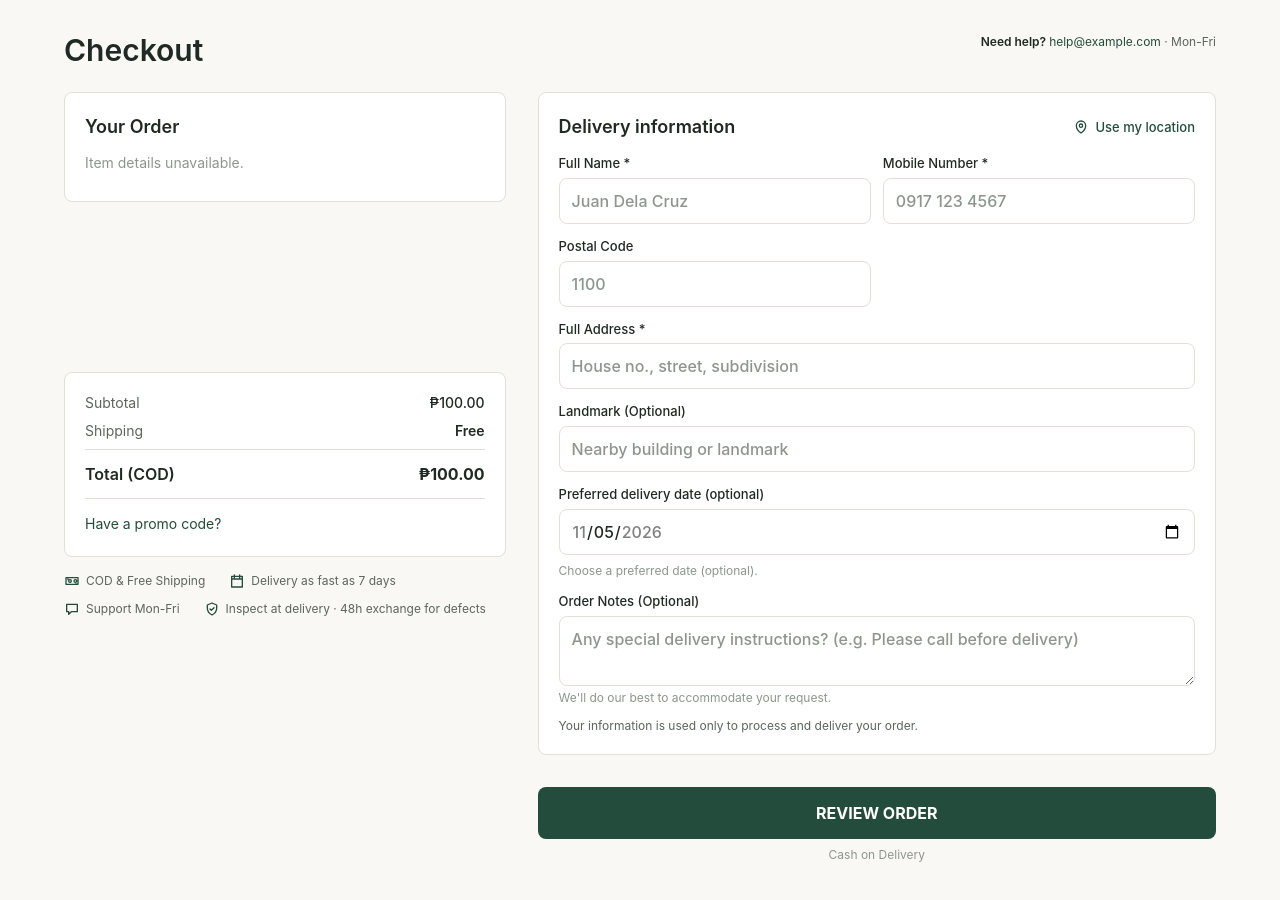
Test: CheckoutForm promo code › blocks review while a promo preview is still pending
The width and height of the screenshot is (1280, 900).
Click the button "Have a promo code?": (153, 524) [85,514,222,534]
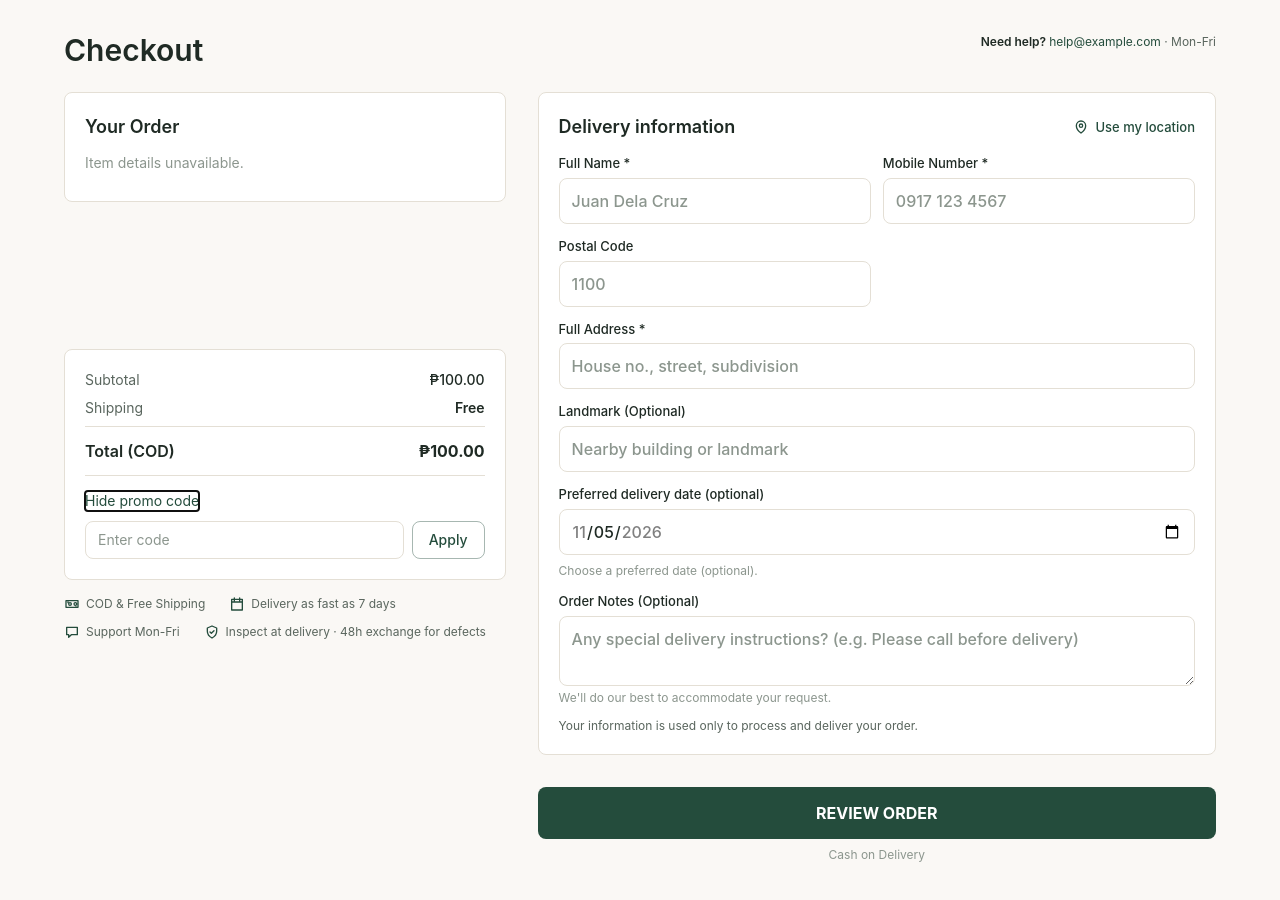
In the field named "Promo code": (244, 540) [85,521,404,559], type "SAVE10"
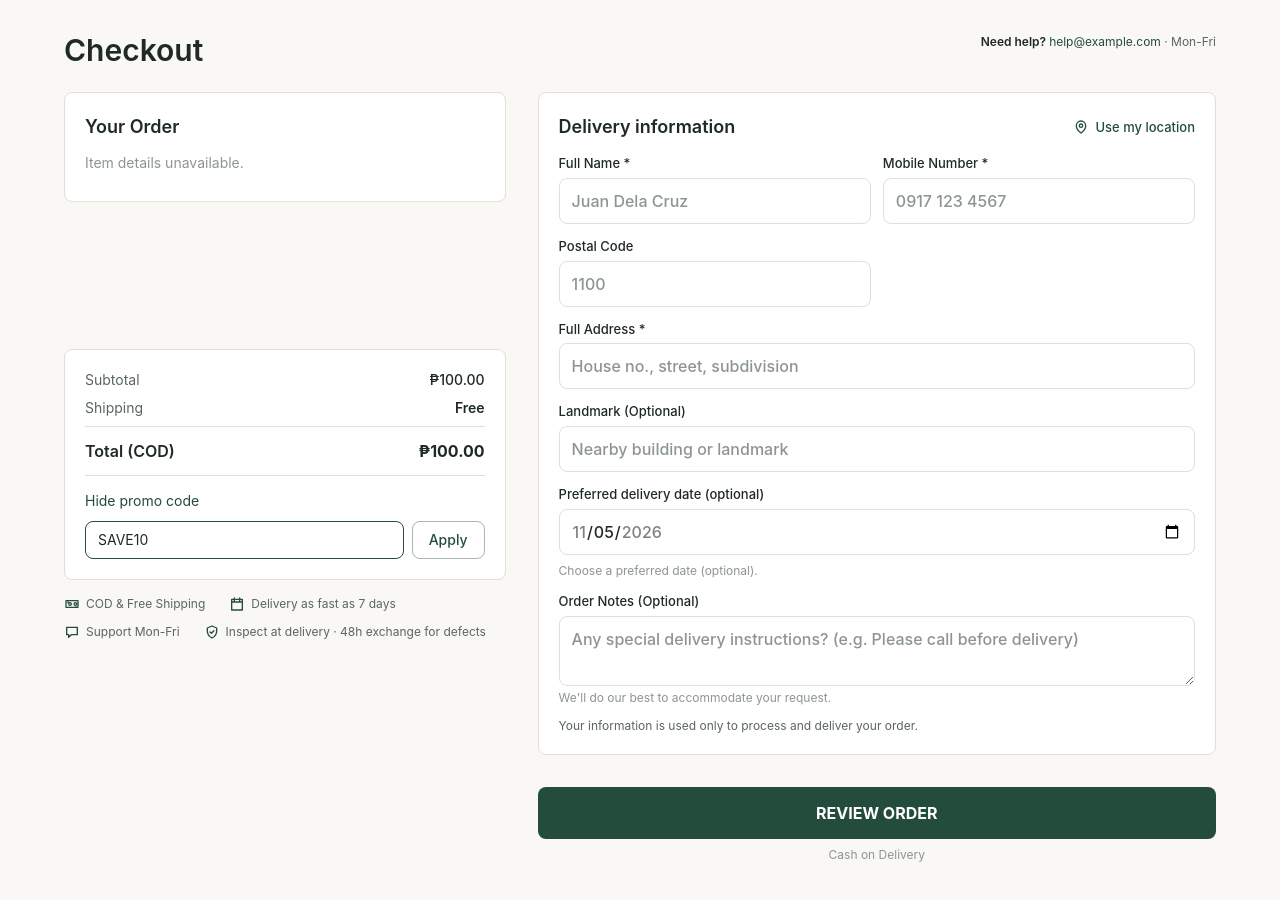
Click the button "Apply": (448, 540) [412,521,485,559]
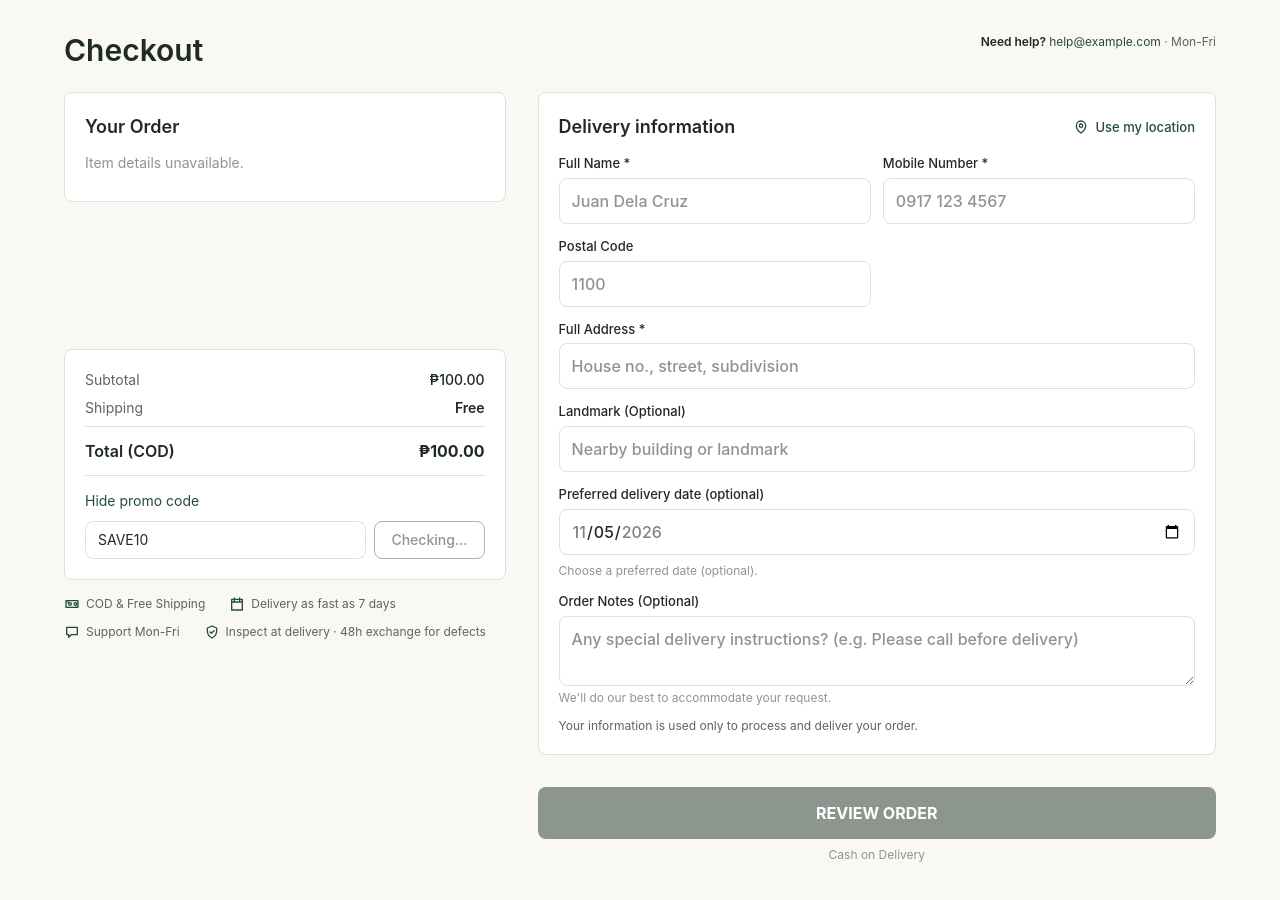
Now the button with test id "review-order" is disabled
Click the button with test id "review-order": (877, 813) [538,787,1216,839]
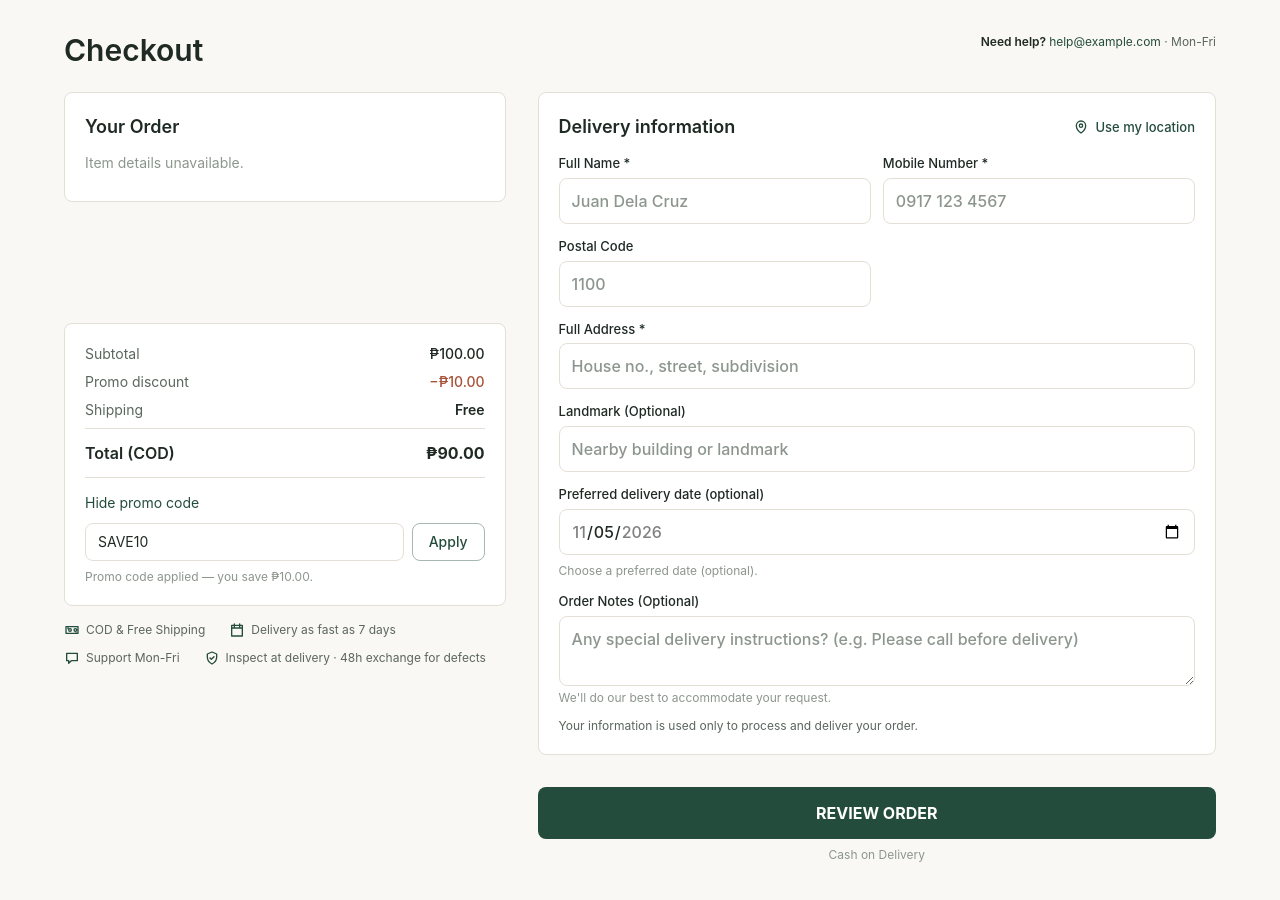
Now the button with test id "review-order" is enabled, box [538,787,1216,839]
